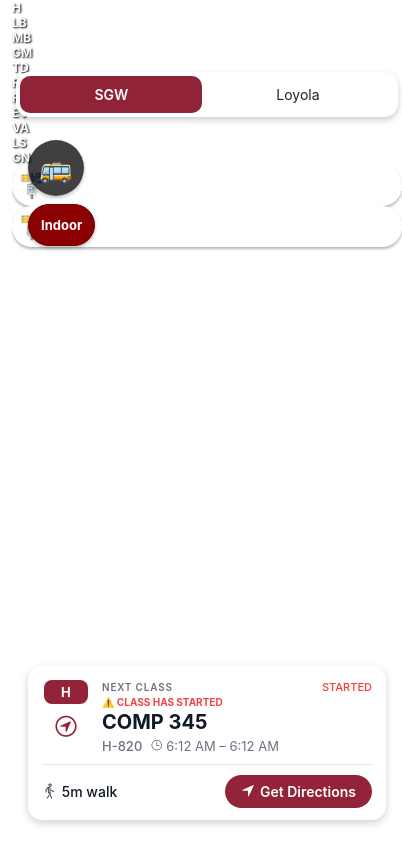
<Index /> › Indoor map entry points › opens IndoorMapModal when Indoor quick-access button is pressed
The width and height of the screenshot is (402, 844).
Click the button "Indoor" at (62, 225), box [28,204,95,246]
(page scrolled)
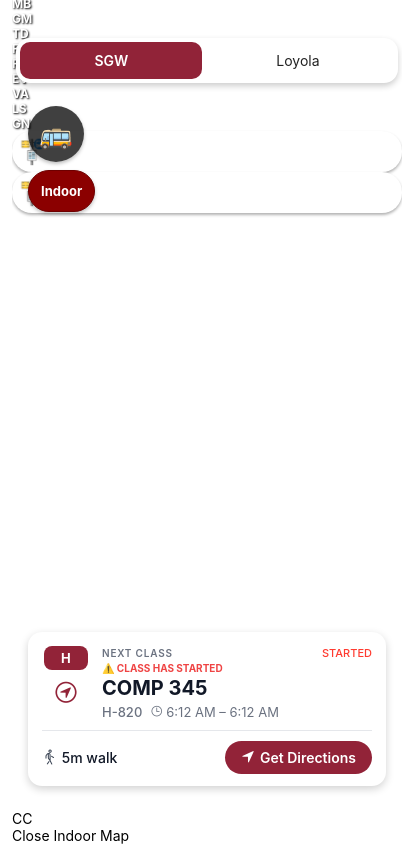
expect the element with test id "indoor-map-modal" is shown: met, box [12,810,129,843]
